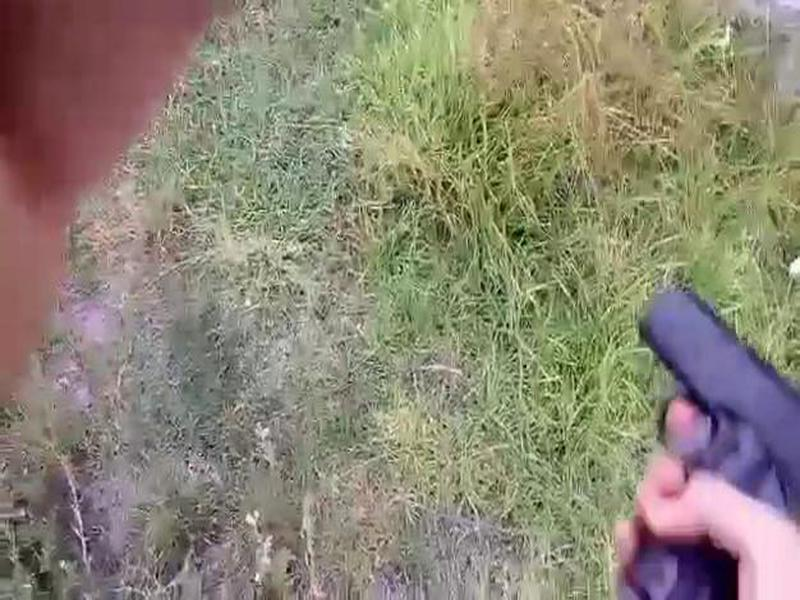Pistola: (587, 259, 800, 596)
